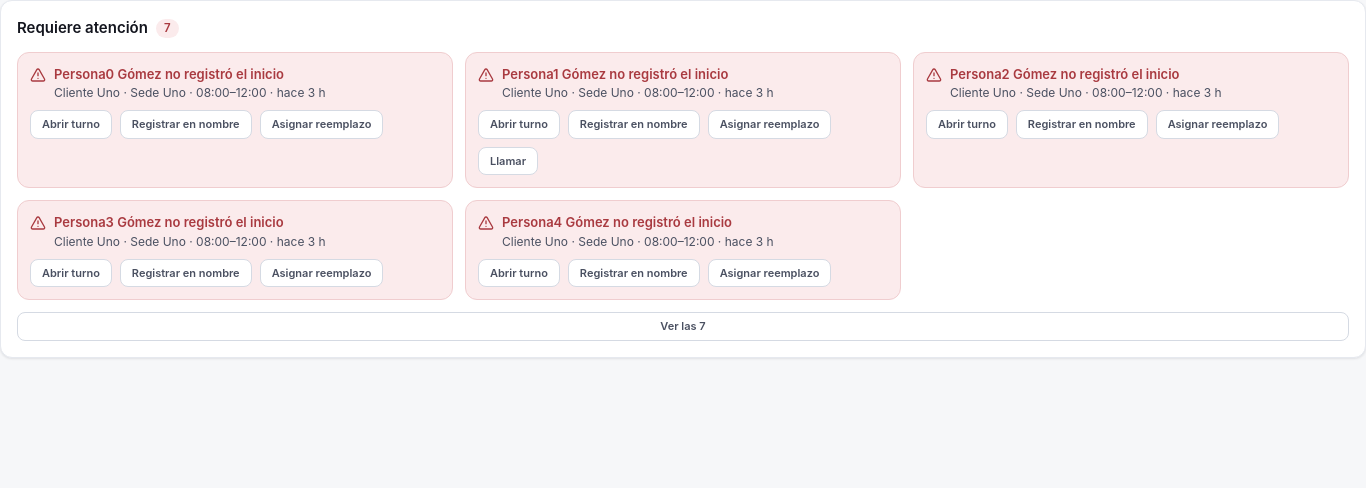
Test case: AttentionBlock › con más de 5 alertas › en celular muestra 5 y despliega el resto con "Ver las N"
Expected: the text "Persona0 Gómez no registró el inicio" is shown 5 times, x1=54 y1=66 x2=284 y2=82; x1=502 y1=66 x2=728 y2=82; x1=950 y1=66 x2=1180 y2=82; x1=54 y1=214 x2=284 y2=230; x1=502 y1=214 x2=732 y2=230
Click the button "Ver las 7". click: point(683, 326)
box: x1=17 y1=312 x2=1349 y2=340
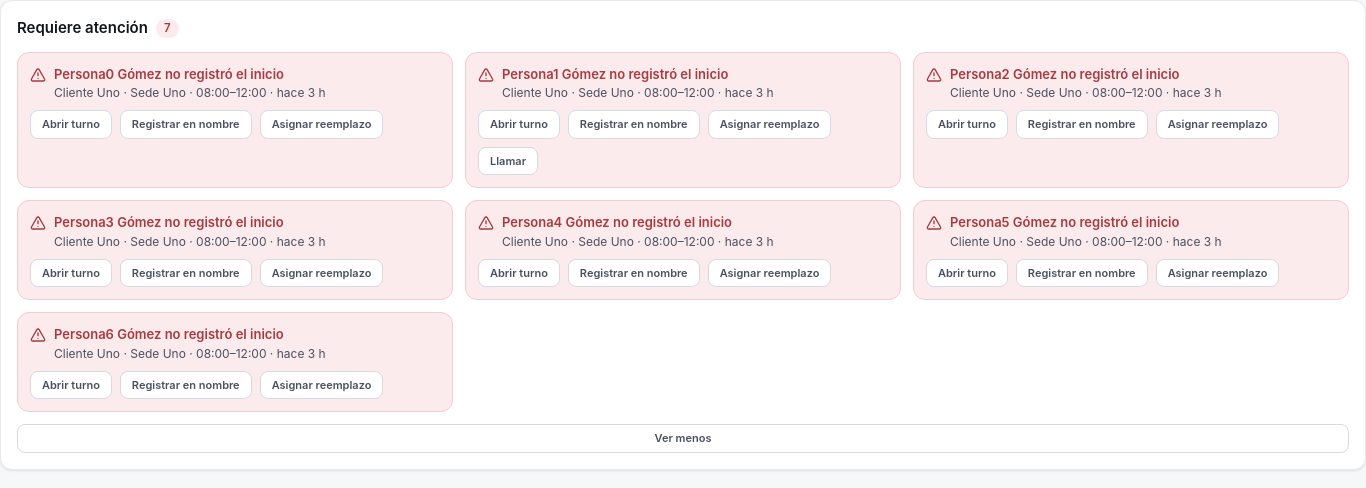
Now the text "Persona0 Gómez no registró el inicio" is shown 7 times
Now the button "Ver menos" is shown, box x1=17 y1=424 x2=1349 y2=452
